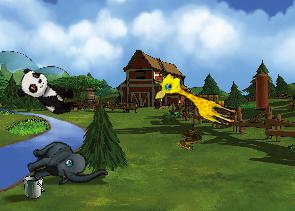elephant: (21, 125, 108, 206)
giraffe: (148, 68, 243, 129)
panda: (13, 65, 80, 119)
